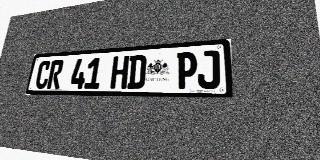1: (84, 57, 103, 89)
4: (69, 58, 88, 89)
C: (34, 61, 51, 89)
D: (127, 55, 147, 89)
H: (110, 56, 129, 89)
J: (197, 50, 220, 89)
P: (176, 51, 197, 89)
R: (46, 60, 64, 89)
